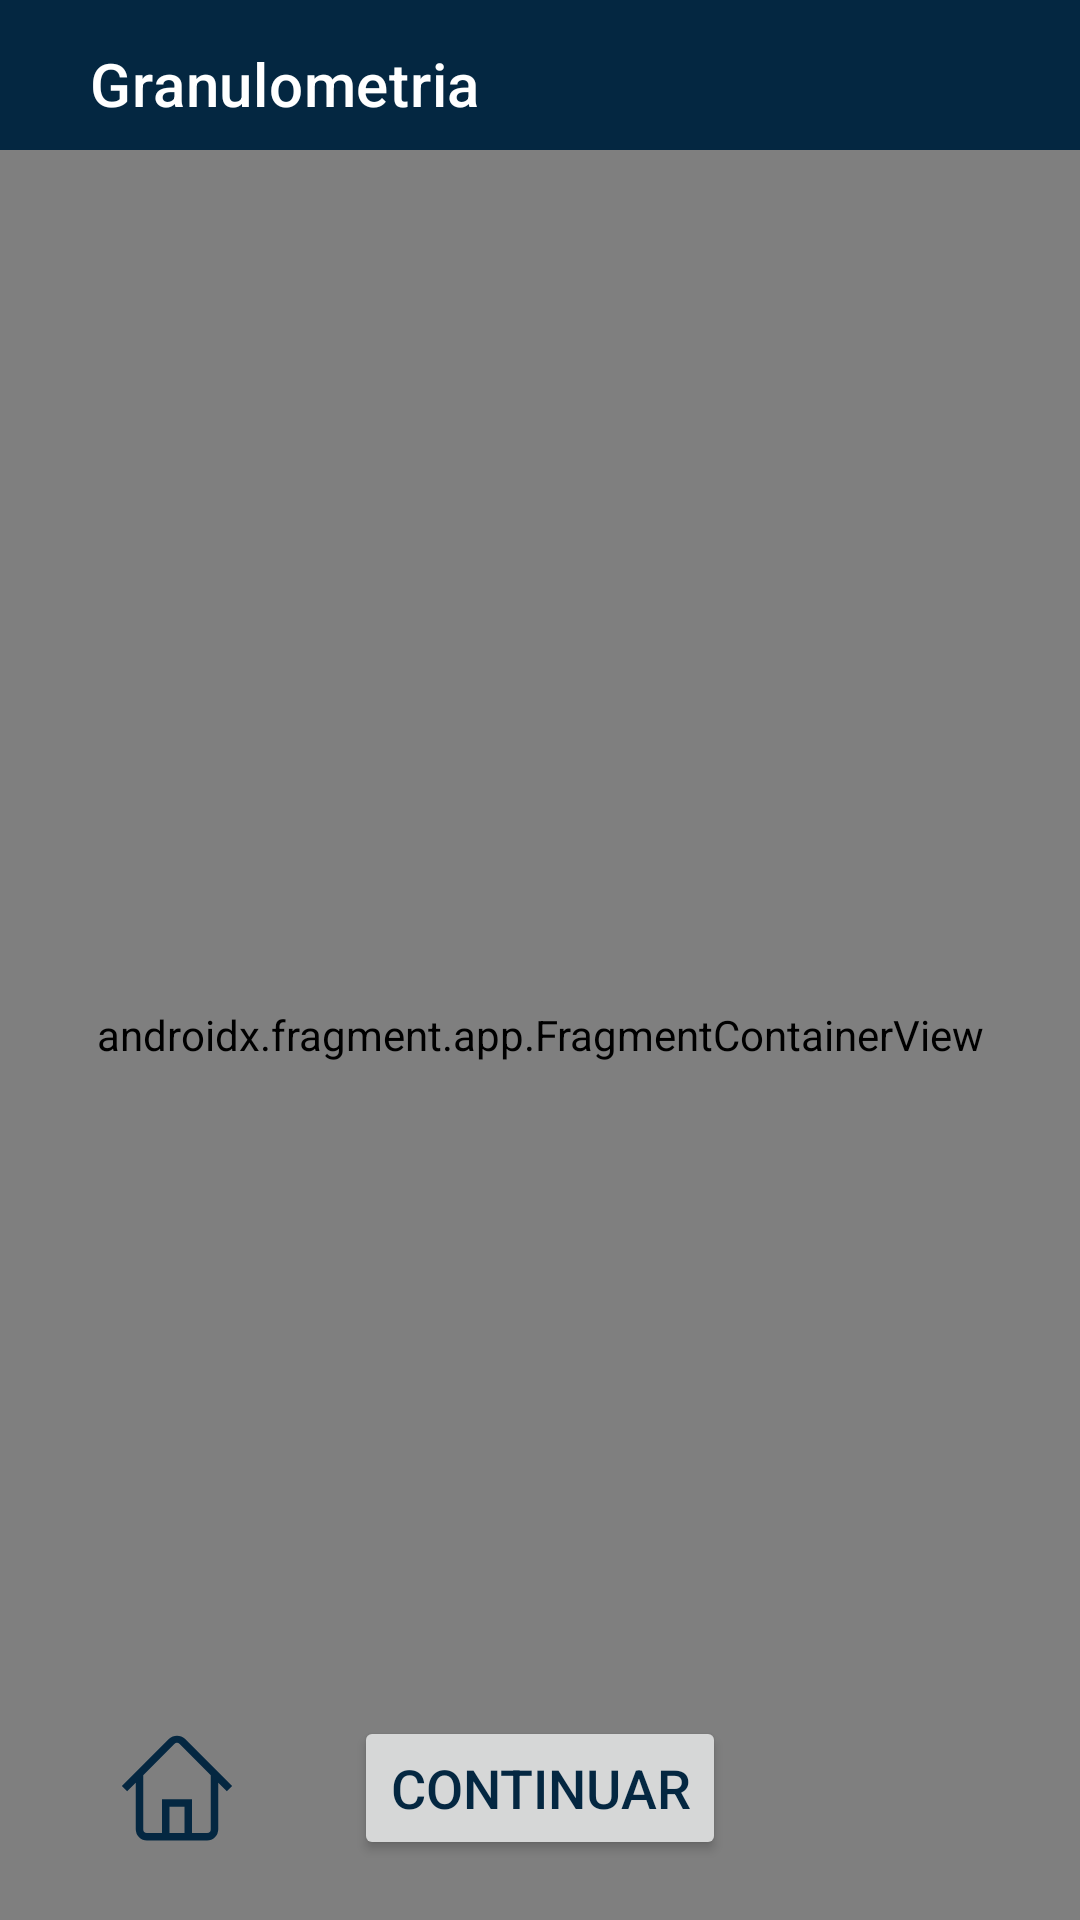

Where to tap for icons on this 1080*1920 app screen, as (x=x, y=y):
home: (x=177, y=1788)
